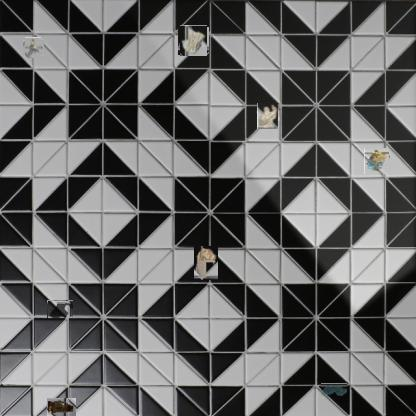dirty: (179, 26, 208, 56), (194, 246, 218, 280), (364, 149, 390, 174), (256, 105, 280, 128), (48, 398, 78, 416), (24, 39, 43, 57)
liquid: (47, 300, 73, 318), (321, 383, 347, 396)
